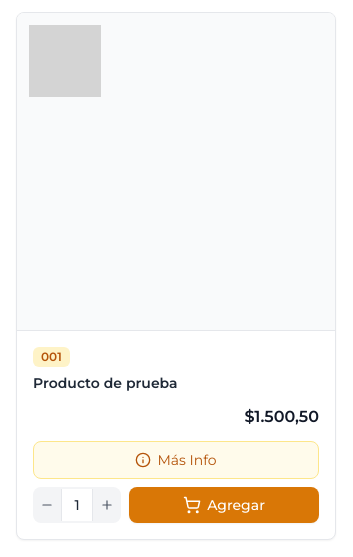
it: ProductCard › selector de cantidad › debería incrementar cantidad al hacer clic en +
The image size is (353, 557).
Step 1. Click the button named "Aumentar cantidad" → point(107, 505), box [93,489,121,521]
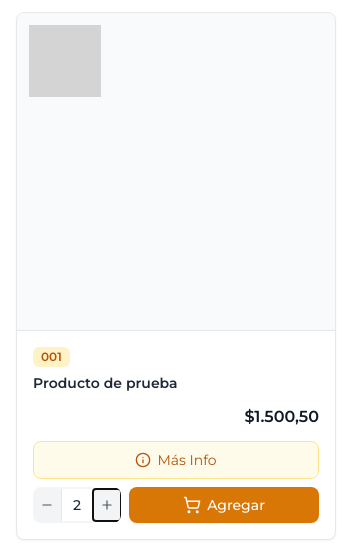
Check: the number field holds "2", box [61,489,93,521]
